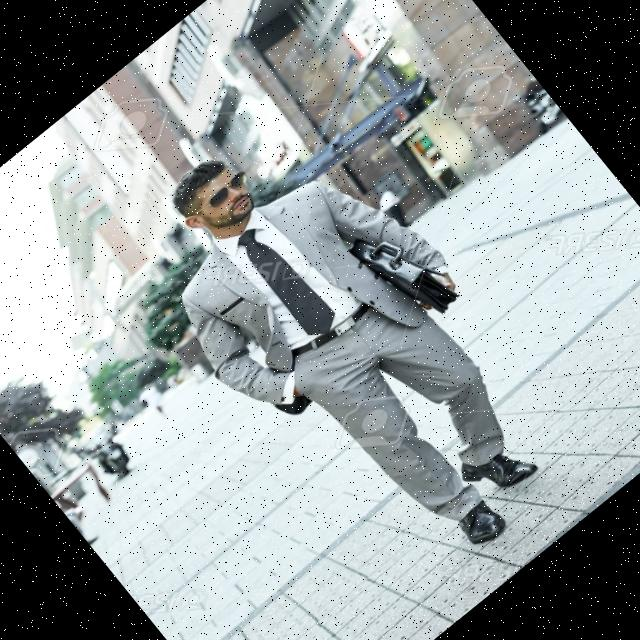Person: (106, 82, 600, 610)
